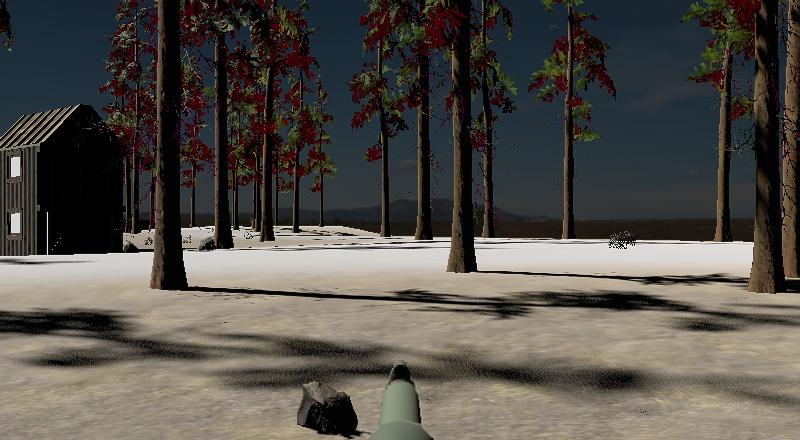House: (1, 104, 126, 256)
